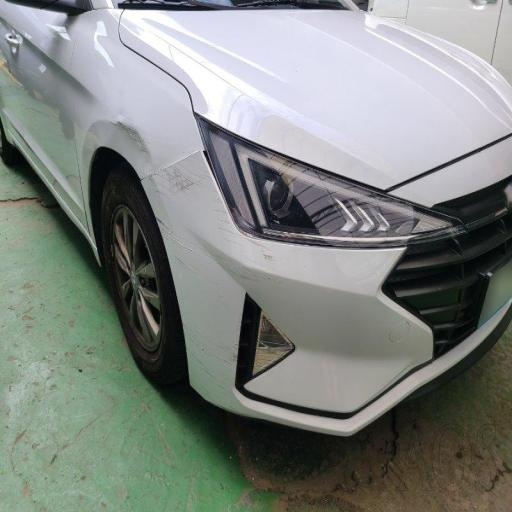scratch: (94, 43, 395, 403)
